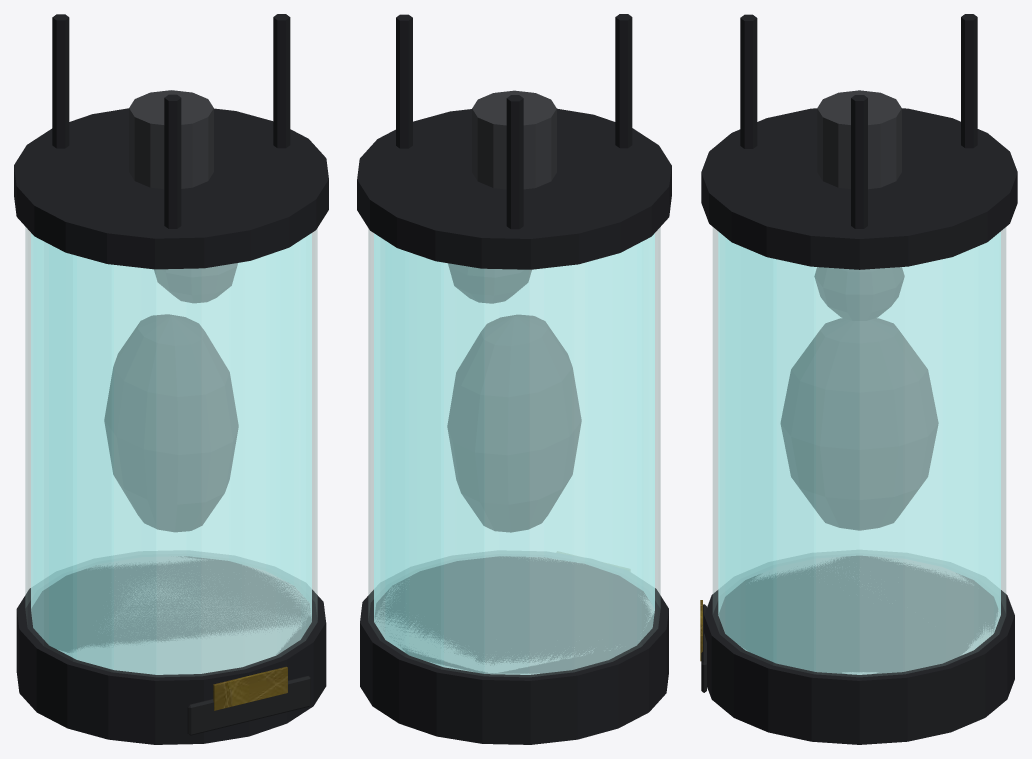
The model's file is specimen_tank.glb.
3 renders of one model, left to right at view 1: azimuth 30°, elevation 25°; view 2: azimuth 150°, elevation 25°; view 3: azimuth 270°, elevation 25°, orthographic.
Parts seen in each view (by area): view 1: body; view 2: body; view 3: body.
Part boxes in pixels (x1,y1,x2,y2): body: [14, 14, 328, 744]; body: [357, 14, 671, 744]; body: [700, 14, 1017, 744].
Bounding box in the file's own units: 1.12 × 2.48 × 1.12.
6 materials, 3 textured.
